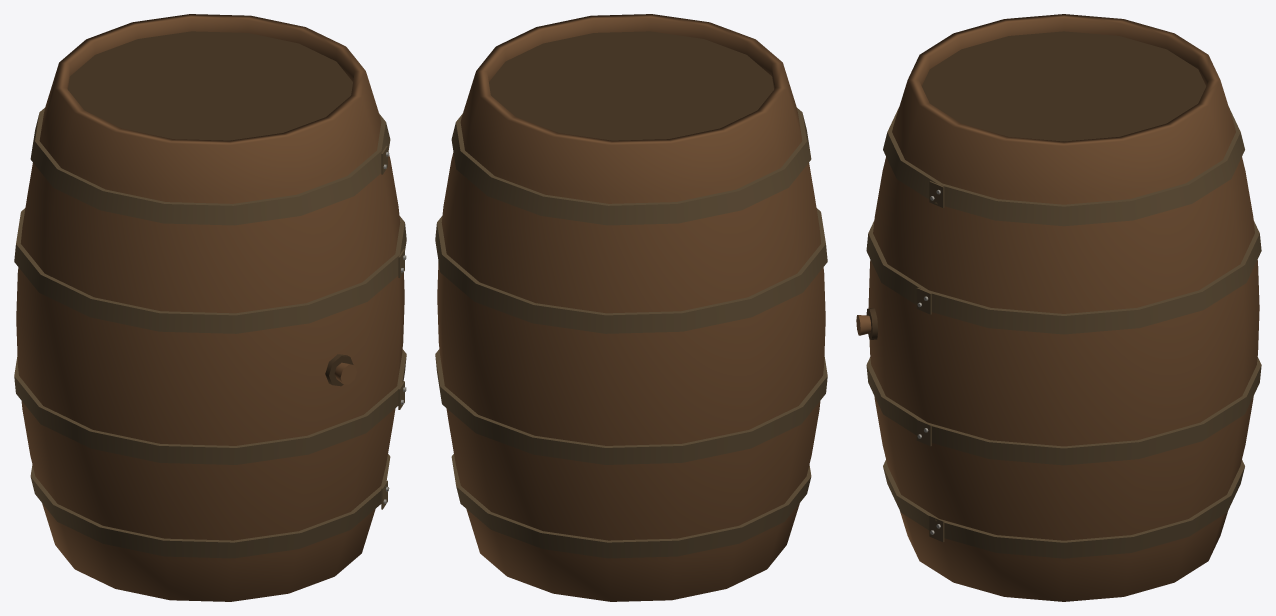
Rendered from coopered-wooden-barrel-standing.glb.
3 views of the same model, side by side, from view 1: azimuth 30°, elevation 25°; view 2: azimuth 150°, elevation 25°; view 3: azimuth 270°, elevation 25° (orthographic).
Parts seen in each view (by area): view 1: Mesh_Body, Mesh_TopLid, Mesh_Hoop_2, Mesh_Hoop_3, Mesh_Hoop_1, Mesh_Hoop_0; view 2: Mesh_Body, Mesh_TopLid, Mesh_Hoop_2, Mesh_Hoop_3, Mesh_Hoop_1, Mesh_Hoop_0; view 3: Mesh_Body, Mesh_TopLid, Mesh_Hoop_2, Mesh_Hoop_3, Mesh_Hoop_1, Mesh_Hoop_0.
Boxes of the visible parts, x1,y1,x2,y2 form: Mesh_Body: (16,14,404,601); Mesh_TopLid: (68,31,352,140); Mesh_Hoop_2: (14,208,406,333); Mesh_Hoop_3: (30,107,390,225); Mesh_Hoop_1: (14,349,406,464); Mesh_Hoop_0: (30,454,390,558); Mesh_Body: (437,14,825,601); Mesh_TopLid: (489,31,773,140); Mesh_Hoop_2: (435,208,827,333); Mesh_Hoop_3: (451,107,811,225); Mesh_Hoop_1: (435,349,827,464); Mesh_Hoop_0: (451,454,811,558); Mesh_Body: (868,14,1259,601); Mesh_TopLid: (922,31,1206,141); Mesh_Hoop_2: (866,220,1261,334); Mesh_Hoop_3: (883,107,1244,226); Mesh_Hoop_1: (866,357,1261,465); Mesh_Hoop_0: (883,460,1244,558).
Size of the model in its own units: 0.7072 by 0.9 by 0.7253.
